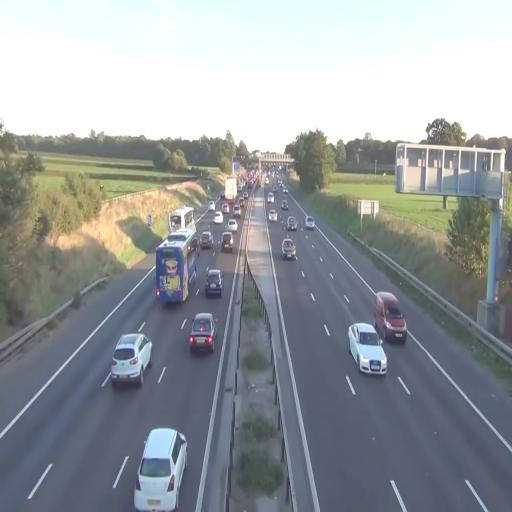vehicle: (135, 426, 188, 511), (110, 332, 153, 388), (156, 241, 190, 305), (348, 322, 388, 376), (374, 291, 407, 344), (109, 340, 144, 388), (188, 312, 216, 354), (205, 268, 223, 298), (196, 228, 214, 250), (281, 236, 297, 260), (220, 231, 234, 253), (266, 205, 278, 222), (304, 217, 315, 230)
